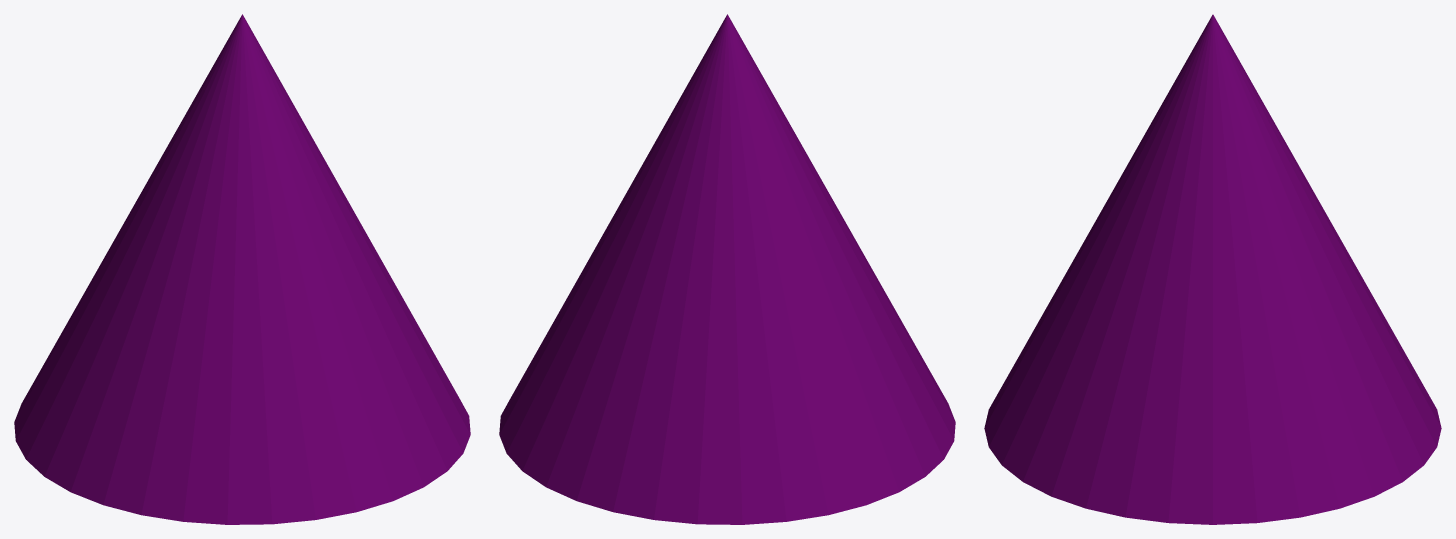
3 views of the same model, side by side, from view 1: azimuth 30°, elevation 25°; view 2: azimuth 150°, elevation 25°; view 3: azimuth 270°, elevation 25° (orthographic).
Visible parts, largest first — view 1: Cono; view 2: Cono; view 3: Cono.
Part boxes in pixels (x1,y1,x2,y2): Cono: [14, 14, 470, 524]; Cono: [499, 14, 955, 524]; Cono: [984, 14, 1441, 524].
Bounding box in the file's own units: 2 × 2 × 2.
1 material, 1 textured.
